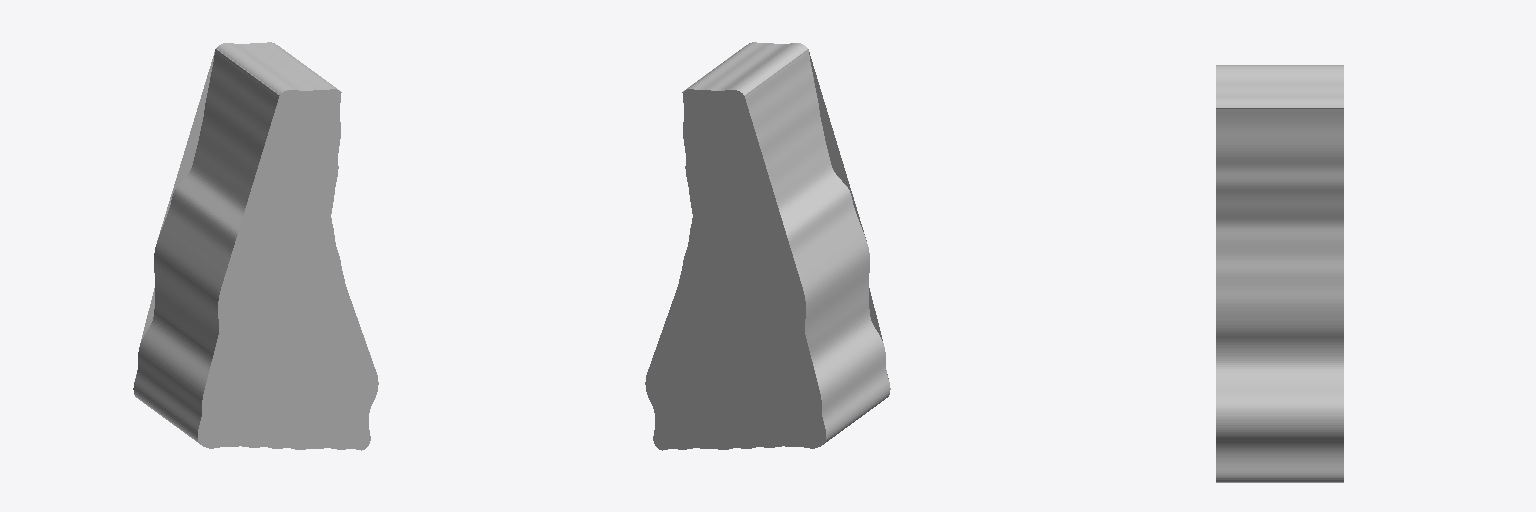
3 renders of one model, left to right at view 1: azimuth 30°, elevation 25°; view 2: azimuth 150°, elevation 25°; view 3: azimuth 270°, elevation 25°, orthographic.
Visible parts, largest first — view 1: 平面; view 2: 平面; view 3: 平面.
Boxes of the visible parts, box(x1,y1,x2,y2) form: 平面: box(133, 42, 378, 450); 平面: box(645, 42, 890, 450); 平面: box(1216, 65, 1343, 482).
Bounding box in the file's own units: 0.3264 × 0.6519 × 0.2.